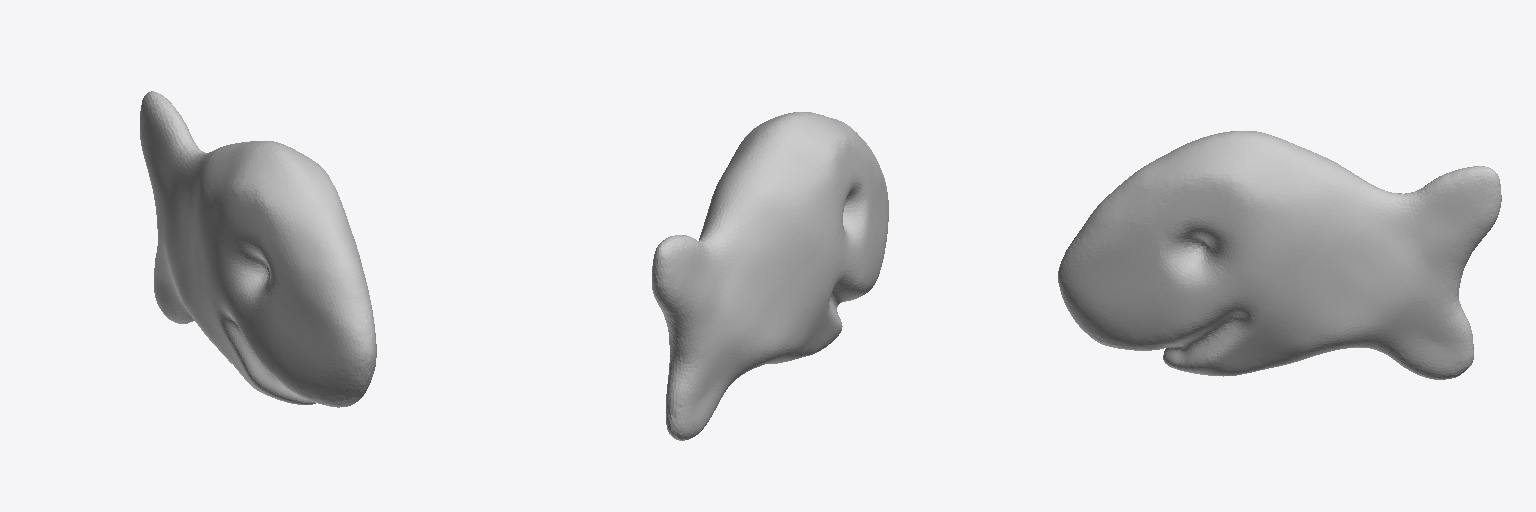
File: Goldfish.obj
3 renders of one model, left to right at view 1: azimuth 30°, elevation 25°; view 2: azimuth 150°, elevation 25°; view 3: azimuth 270°, elevation 25°, orthographic.
Visible parts, largest first — view 1: ZBrush_defualt_group; view 2: ZBrush_defualt_group; view 3: ZBrush_defualt_group.
Part boxes in pixels (bbox=[...]): ZBrush_defualt_group: bbox=[140, 91, 376, 407]; ZBrush_defualt_group: bbox=[652, 112, 888, 440]; ZBrush_defualt_group: bbox=[1058, 131, 1501, 379].
Size of the model in its own units: 69.36 by 150 by 245.